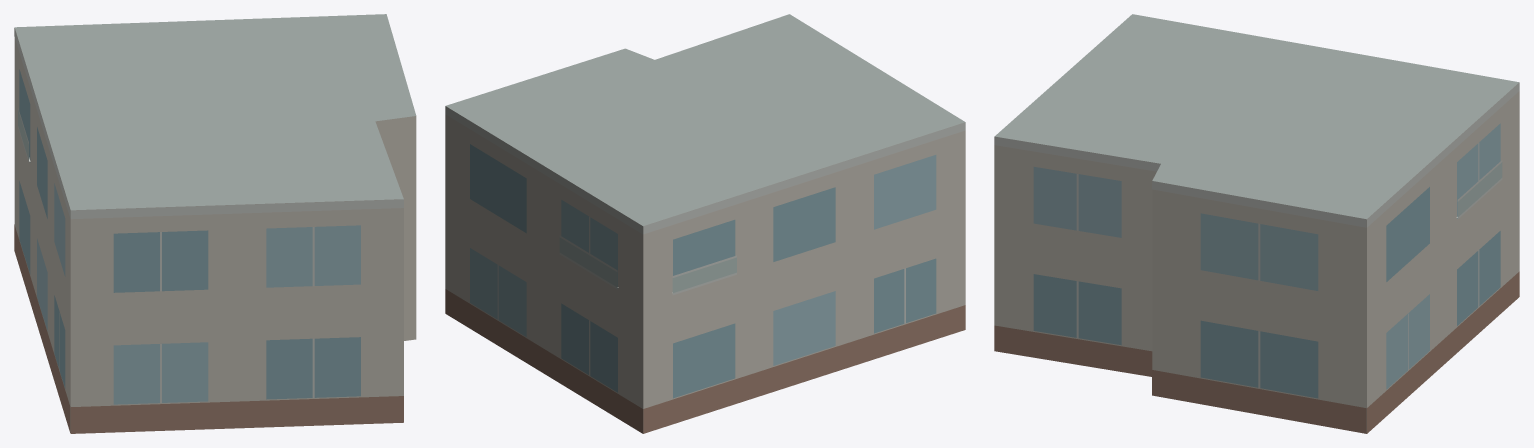
The model's file is survey-upis-32670830.glb.
3 views of the same model, side by side, from view 1: azimuth 30°, elevation 25°; view 2: azimuth 150°, elevation 25°; view 3: azimuth 270°, elevation 25° (orthographic). The views are drawn at different scales.
Parts seen in each view (by area): view 1: survey-upis-32670830.tmp; view 2: survey-upis-32670830.tmp; view 3: survey-upis-32670830.tmp.
Part boxes in pixels (x1=…): survey-upis-32670830.tmp: x1=14, y1=14, x2=416, y2=433; survey-upis-32670830.tmp: x1=445, y1=14, x2=965, y2=433; survey-upis-32670830.tmp: x1=994, y1=14, x2=1519, y2=433.
Bounding box in the file's own units: 12.52 × 6.1 × 13.54.
